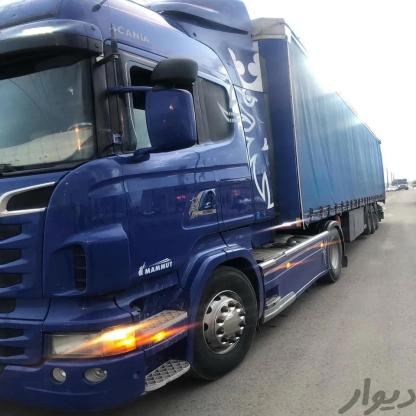Truck: (0, 0, 390, 415)
